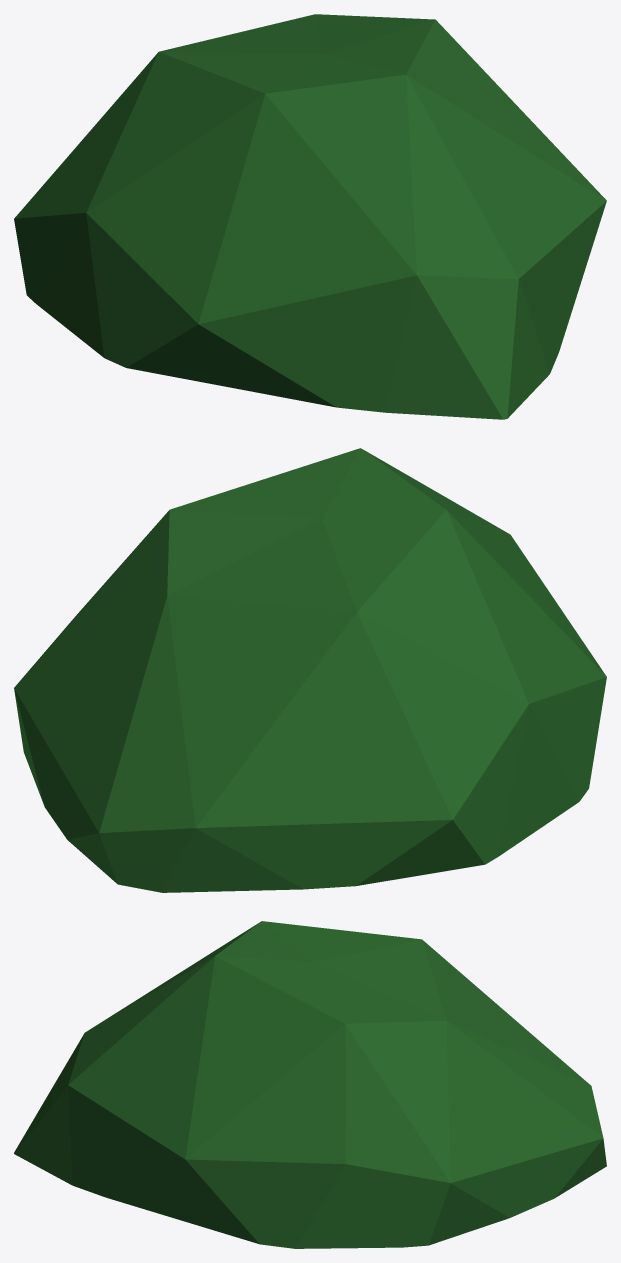
The model's file is Bush1.1.fbx.
3 views of the same model, one above another, from view 1: azimuth 30°, elevation 25°; view 2: azimuth 150°, elevation 25°; view 3: azimuth 270°, elevation 25° (orthographic). The views are drawn at different scales.
Visible parts, largest first — view 1: Bush1.1; view 2: Bush1.1; view 3: Bush1.1.
Boxes of the visible parts, bbox=[...] form: Bush1.1: bbox=[14, 14, 606, 419]; Bush1.1: bbox=[14, 448, 606, 892]; Bush1.1: bbox=[14, 921, 606, 1248].
Bounding box in the file's own units: 230 × 119 × 305.
